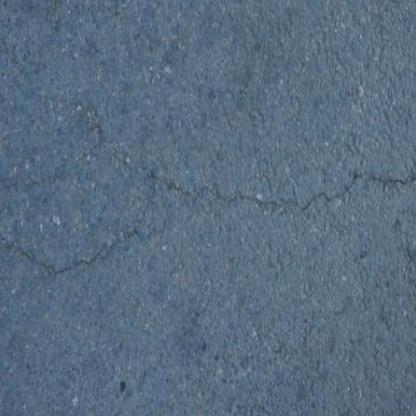Cracks: (0, 0, 416, 283)
